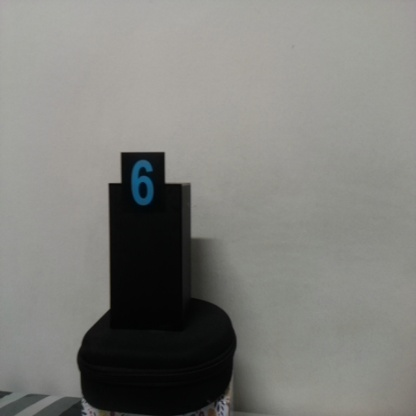id_6: (120, 151, 167, 227)
